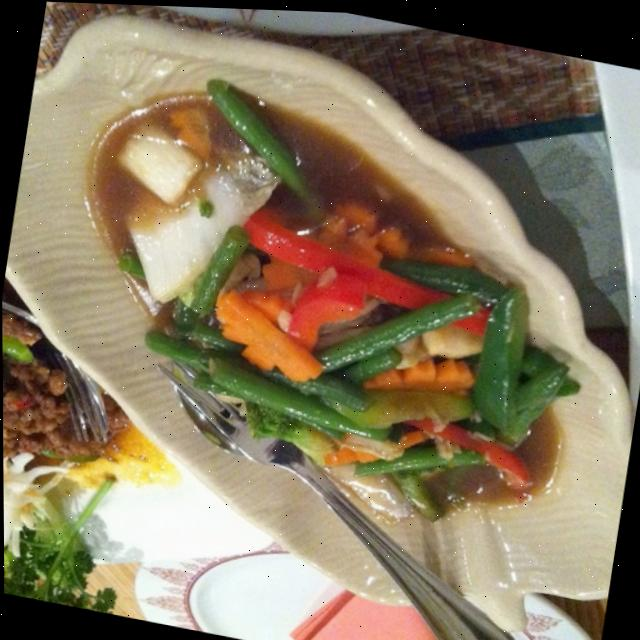蔬菜料理: (36, 24, 640, 618)
